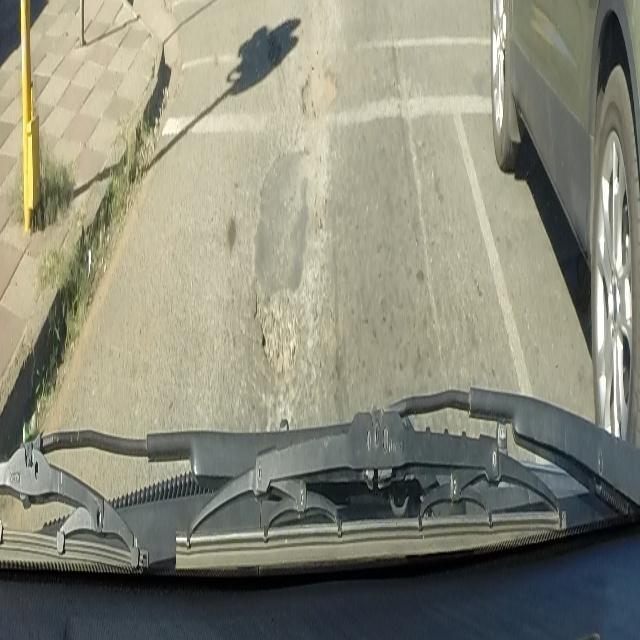pothole: (302, 54, 338, 120)
